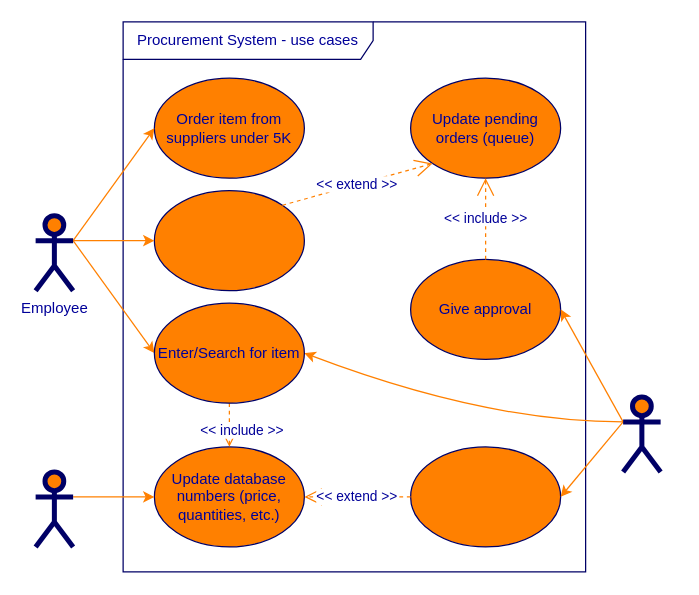
The diagram is 699 pixels wide and 595 high, and some of its shapes have lost their labels. Each missing label, with the centre of its shape:
"Flag issues" belongs at (x=485, y=496).
"Order item from suppliers over 5K" belongs at (x=228, y=240).
"Supervisor" belongs at (x=641, y=434).
"Supplier" belongs at (x=53, y=509).
